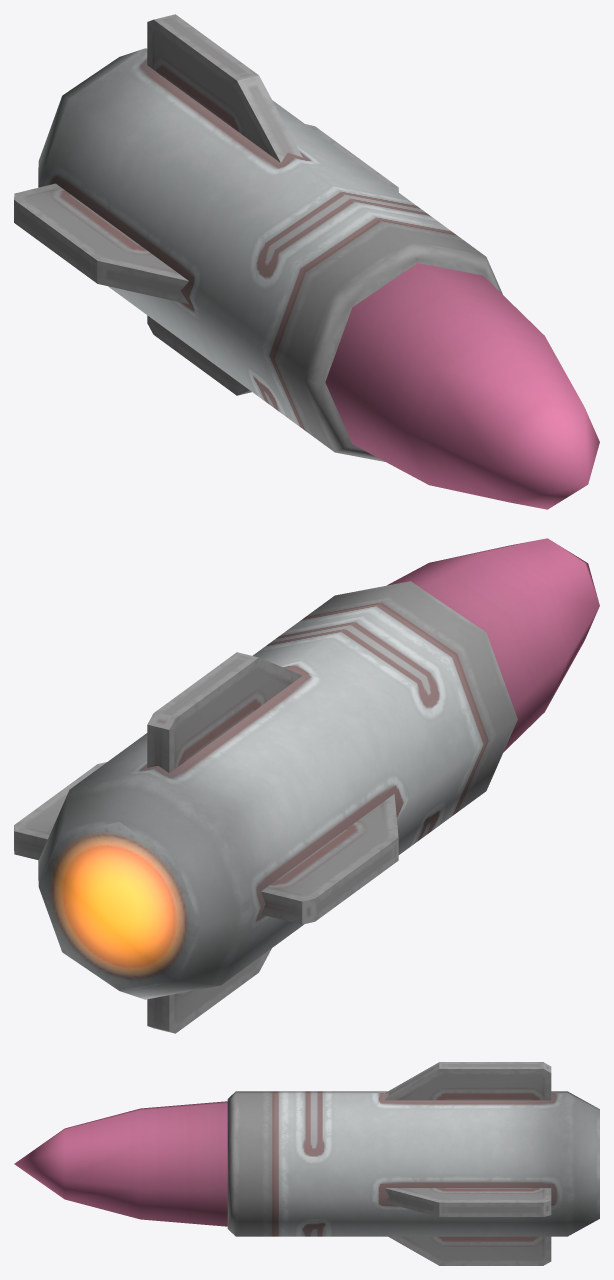
The model's file is Rocket.gltf.
The picture shows the model from 3 angles, top to bottom: view 1: azimuth 30°, elevation 25°; view 2: azimuth 150°, elevation 25°; view 3: azimuth 270°, elevation 25°; orthographic projection. The views are drawn at different scales.
Parts seen in each view (by area): view 1: Tip_low; view 2: Tip_low; view 3: Tip_low.
Part boxes in pixels (x1,y1,x2,y2): Tip_low: [14, 14, 599, 509]; Tip_low: [14, 538, 599, 1033]; Tip_low: [14, 1062, 599, 1265].
Size of the model in its own units: 0.0938 by 0.0938 by 0.2531.
Materials: 1 (1 with a texture image).
